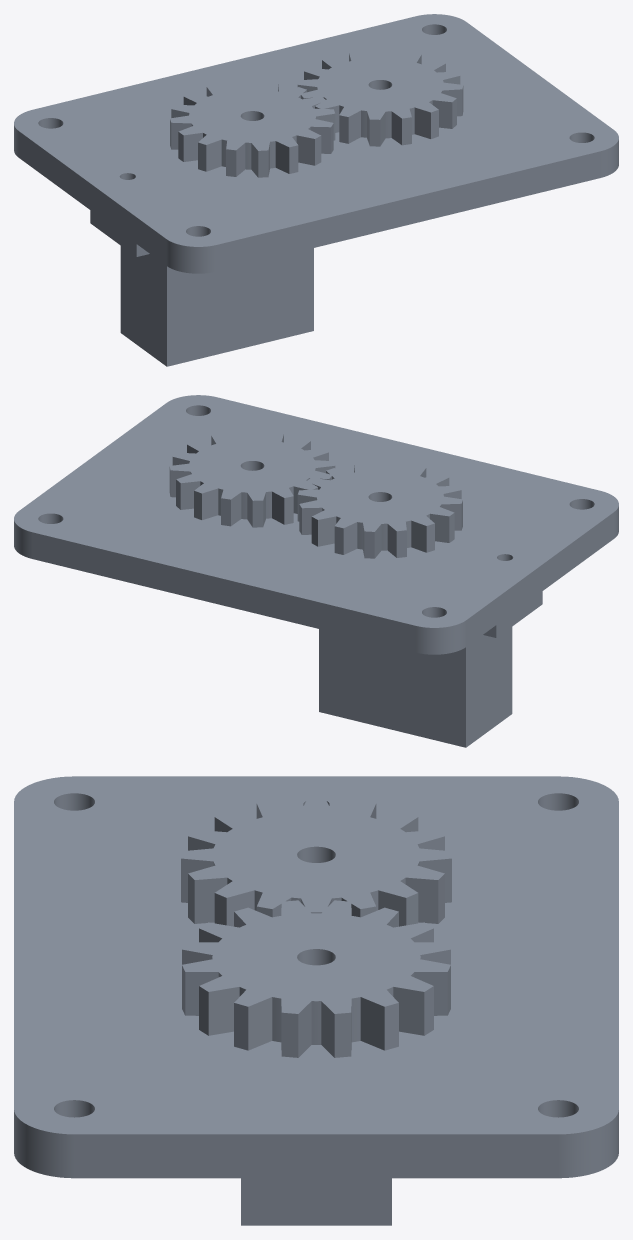
The model's file is step-3-preview-1.glb.
3 views of the same model, one above another, from view 1: azimuth 30°, elevation 25°; view 2: azimuth 150°, elevation 25°; view 3: azimuth 270°, elevation 25° (orthographic). The views are drawn at different scales.
Parts seen in each view (by area): view 1: preview_4, preview_37, preview_18, preview_5, preview_30, preview_0, preview_1, preview_17, preview_7, preview_119; view 2: preview_4, preview_37, preview_20, preview_6, preview_30, preview_0, preview_2, preview_17, preview_8, preview_157; view 3: preview_4, preview_37, preview_9, preview_28, preview_7, preview_8, preview_49, preview_97, preview_39, preview_45, preview_117, preview_159 (+8 smaller).
Part boxes in pixels (left/top/right/bottom): preview_4: left=14, top=14, right=618, bottom=246; preview_37: left=170, top=50, right=463, bottom=150; preview_18: left=136, top=244, right=313, bottom=366; preview_5: left=217, top=151, right=600, bottom=271; preview_30: left=120, top=246, right=166, bottom=366; preview_0: left=19, top=131, right=166, bottom=265; preview_1: left=166, top=239, right=216, bottom=273; preview_17: left=90, top=210, right=136, bottom=256; preview_7: left=600, top=139, right=618, bottom=177; preview_119: left=296, top=135, right=314, bottom=165; preview_4: left=14, top=395, right=618, bottom=627; preview_37: left=169, top=431, right=462, bottom=531; preview_20: left=319, top=625, right=496, bottom=747; preview_6: left=32, top=532, right=415, bottom=652; preview_30: left=466, top=627, right=512, bottom=747; preview_0: left=466, top=512, right=613, bottom=646; preview_2: left=416, top=620, right=466, bottom=654; preview_17: left=496, top=591, right=542, bottom=637; preview_8: left=14, top=520, right=32, bottom=558; preview_157: left=318, top=516, right=336, bottom=546; preview_4: left=14, top=776, right=618, bottom=1134; preview_37: left=181, top=797, right=451, bottom=1013; preview_9: left=74, top=1134, right=558, bottom=1178; preview_28: left=241, top=1178, right=391, bottom=1225; preview_7: left=14, top=1110, right=74, bottom=1178; preview_8: left=558, top=1110, right=618, bottom=1178; preview_49: left=208, top=987, right=239, bottom=1035; preview_97: left=393, top=987, right=424, bottom=1035; preview_39: left=360, top=997, right=384, bottom=1050; preview_45: left=248, top=997, right=272, bottom=1050; preview_117: left=194, top=877, right=227, bottom=923; preview_159: left=405, top=877, right=438, bottom=923.
Bounding box in the file's own units: 0.07 × 0.031 × 0.05.
